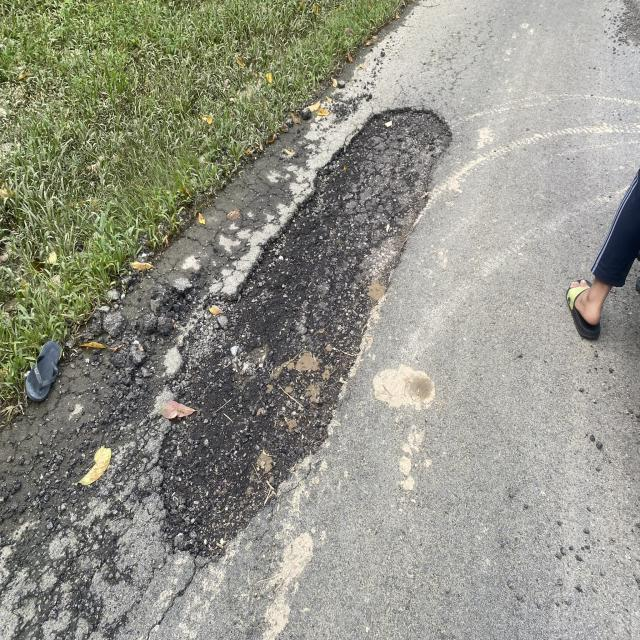Pothole: (130, 60, 474, 560)
